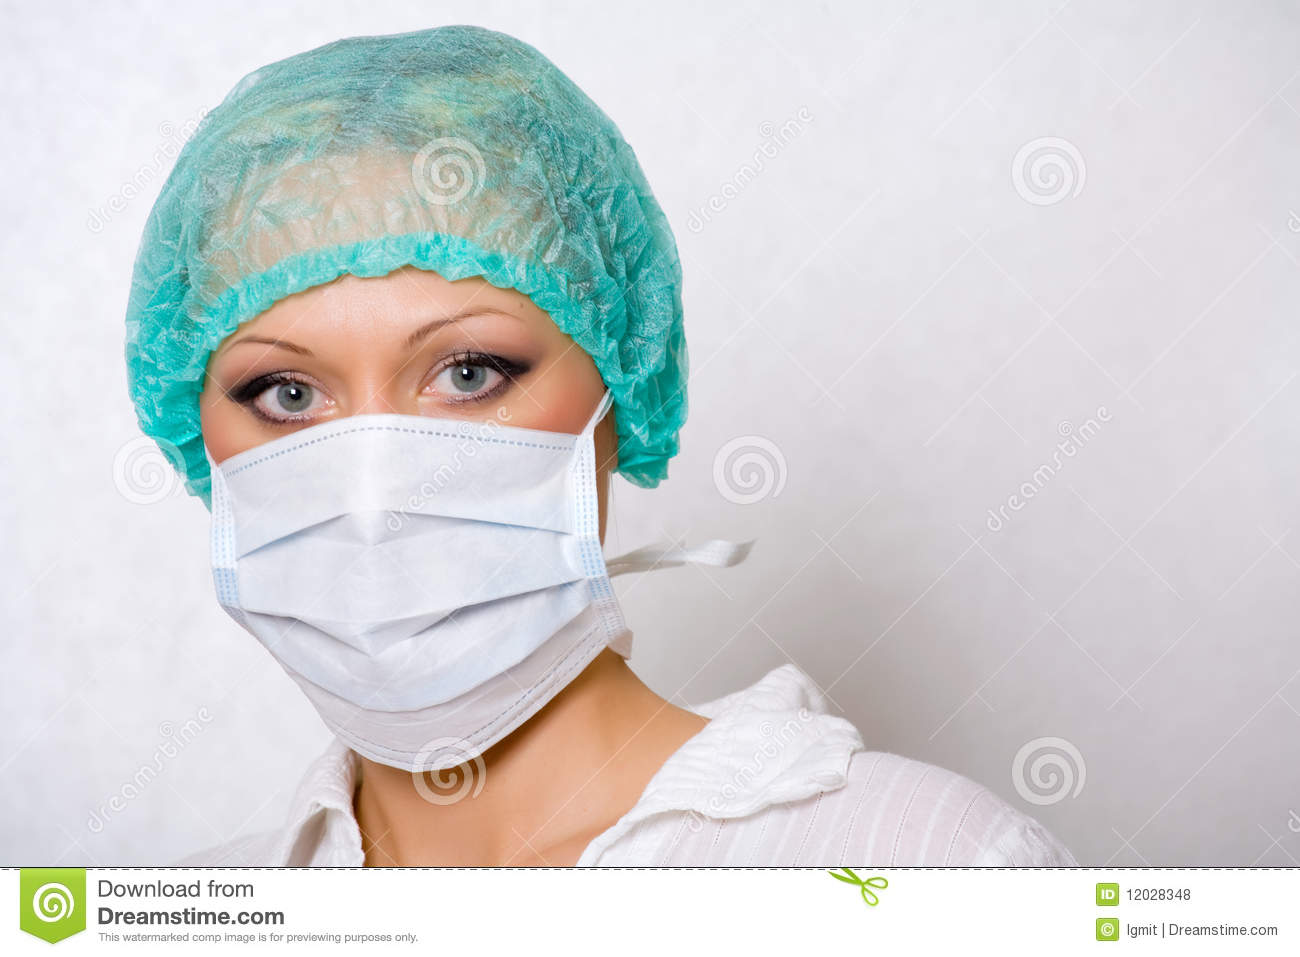mask: (213, 408, 627, 781)
